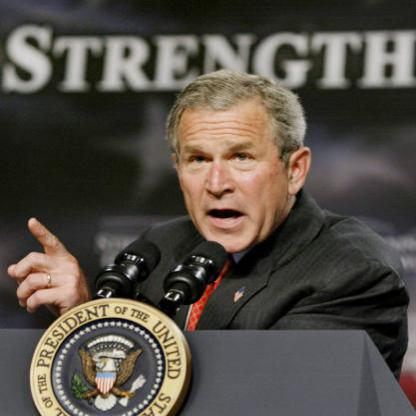face: (174, 73, 293, 255)
